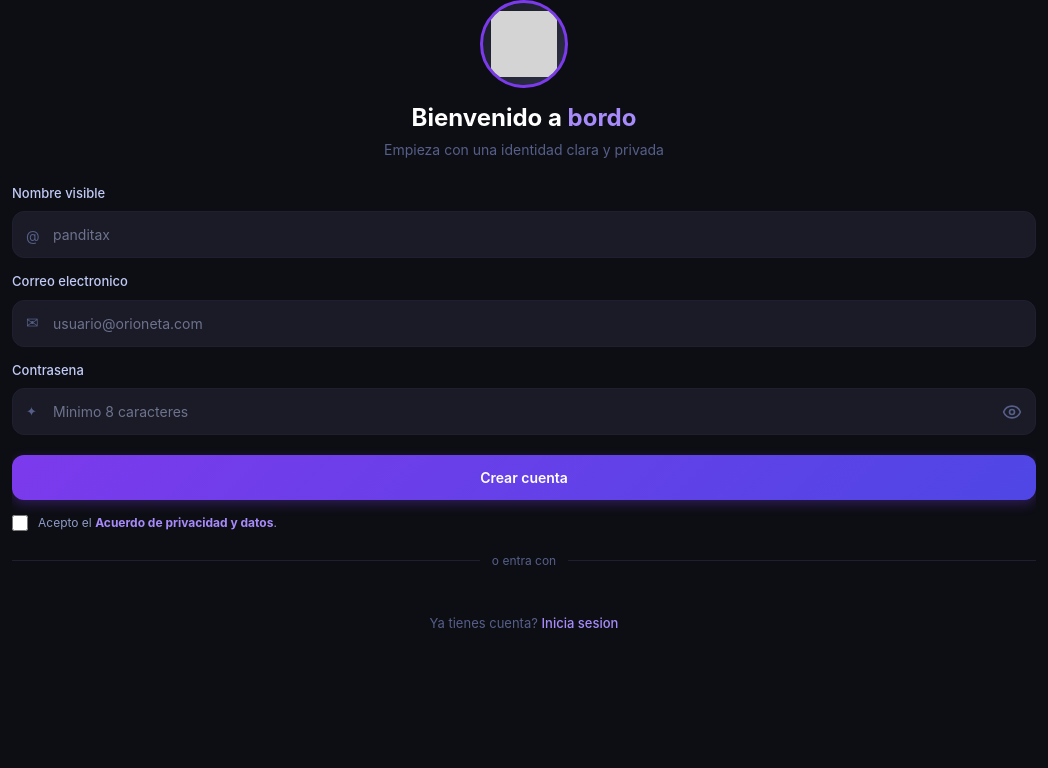
Scenario: RegisterPage › shows validation errors for empty fields
The width and height of the screenshot is (1048, 768).
Click the button "Crear cuenta".
click(524, 478)  # box [12,455,1036,500]
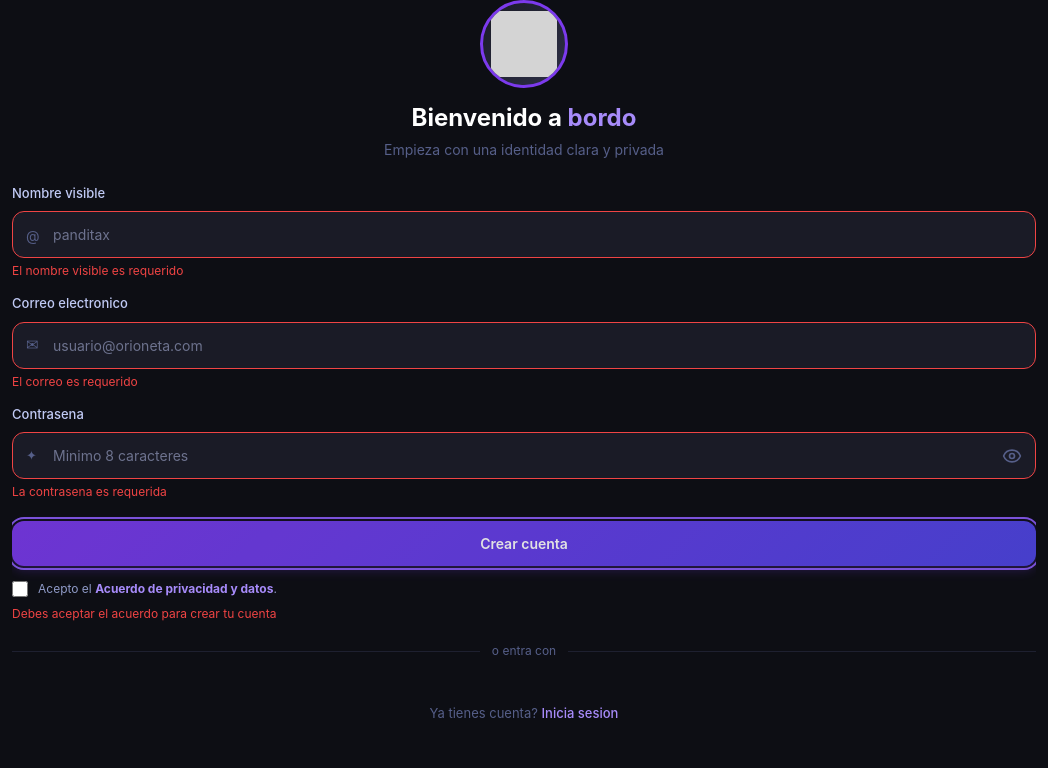
Expected: the text "El nombre visible es requerido" is shown, [12,263,183,278]
Expected: the text "El correo es requerido" is shown, [12,374,138,389]
Expected: the text "La contrasena es requerida" is shown, [12,484,167,499]
